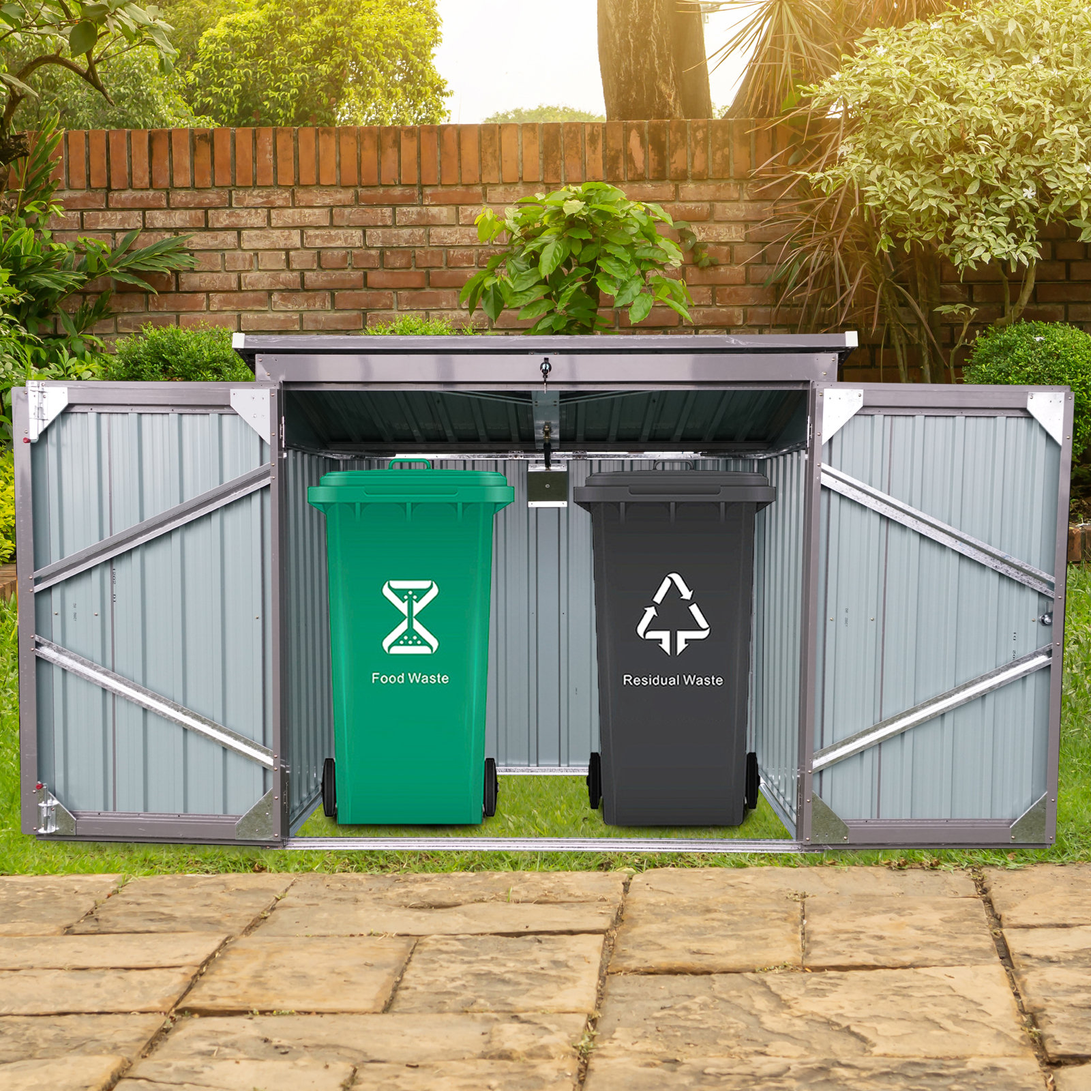full: (578, 454, 768, 836)
